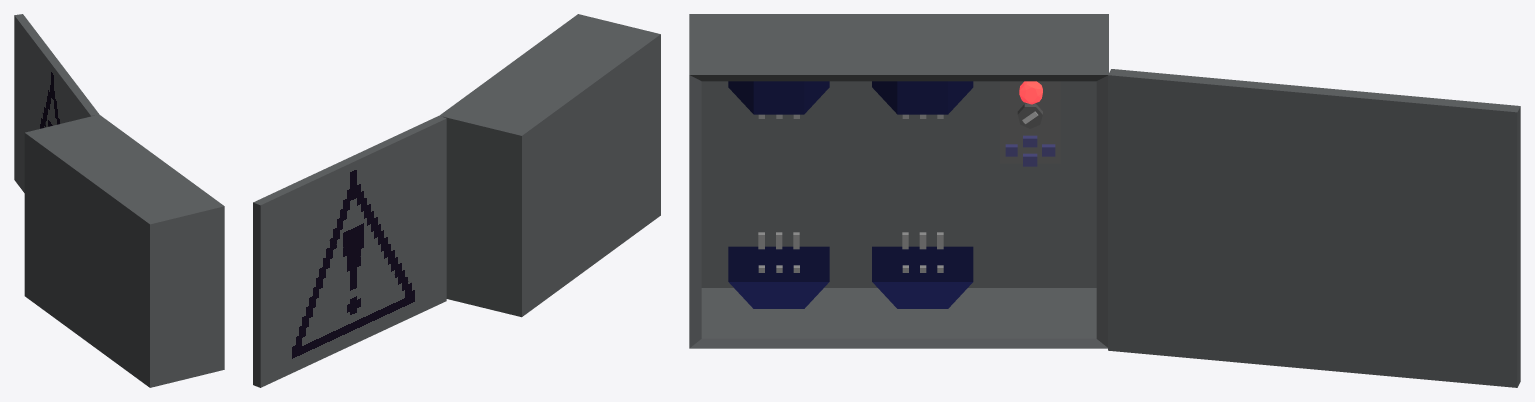
Rendered from CaixadeFusivelabertaSEMF.fbx.
3 views of the same model, side by side, from view 1: azimuth 30°, elevation 25°; view 2: azimuth 150°, elevation 25°; view 3: azimuth 270°, elevation 25° (orthographic). The views are drawn at different scales.
Parts seen in each view (by area): view 1: Caixa da F., Porta; view 2: Caixa da F., Porta; view 3: Caixa da F., Porta, Base.001, Base, Cube.002.
Part boxes in pixels (<box>): Caixa da F.: <box>24,114,224,387</box>; Porta: <box>14,14,99,192</box>; Caixa da F.: <box>439,14,660,317</box>; Porta: <box>253,116,446,387</box>; Caixa da F.: <box>689,14,1108,348</box>; Porta: <box>1108,69,1520,387</box>; Base.001: <box>872,81,973,308</box>; Base: <box>728,81,829,308</box>; Cube.002: <box>1000,81,1060,166</box>.
Bounding box in the file's own units: 349 × 456 × 1247.
